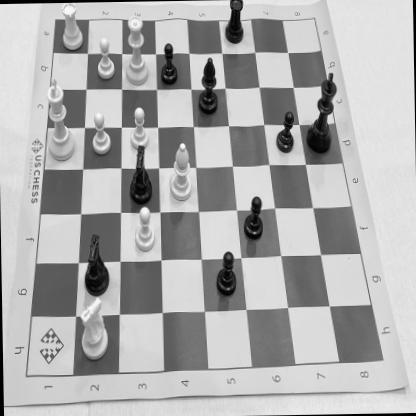bishop: (193, 51, 224, 119), (166, 136, 194, 204)
king: (302, 64, 340, 158), (40, 74, 79, 164)
knight: (78, 228, 112, 298), (76, 293, 110, 360), (124, 142, 157, 209)
pawn: (128, 202, 158, 257), (214, 243, 240, 299), (240, 192, 266, 244), (156, 37, 182, 89), (88, 106, 114, 158), (272, 106, 296, 156), (93, 34, 118, 82), (128, 102, 151, 152)
queen: (122, 10, 152, 88)
rook: (58, 3, 86, 54), (220, 0, 247, 51)
